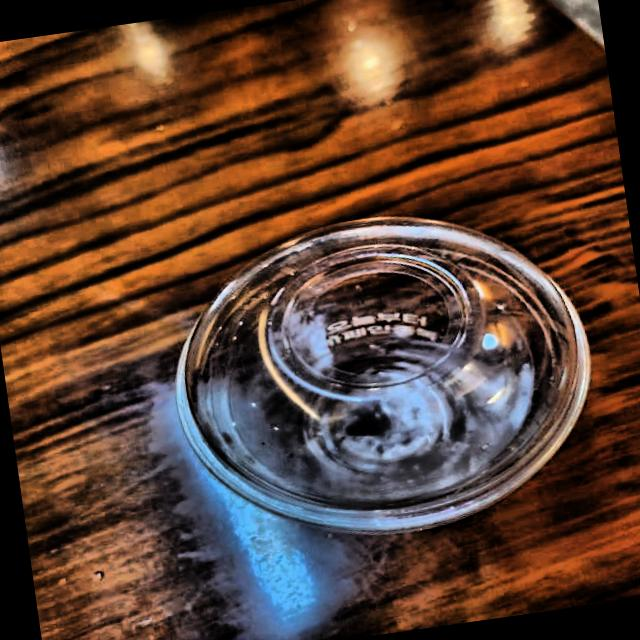plastic cup: (131, 179, 626, 574)
